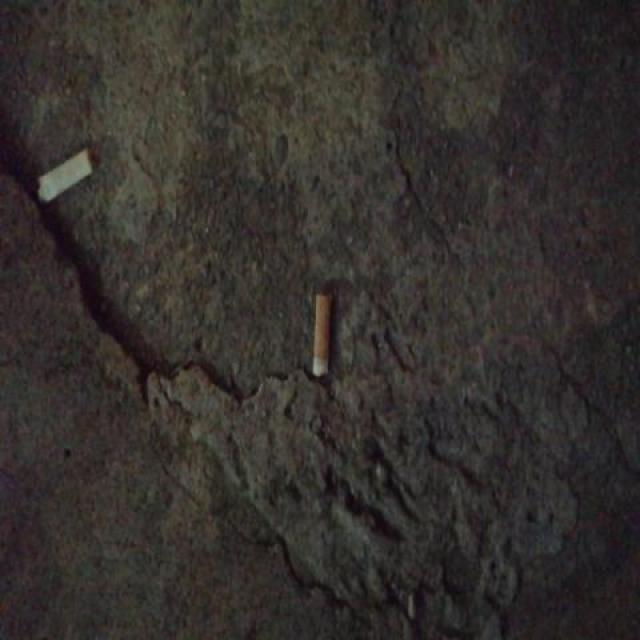non-organic waste: (34, 143, 97, 204), (306, 288, 338, 380)
